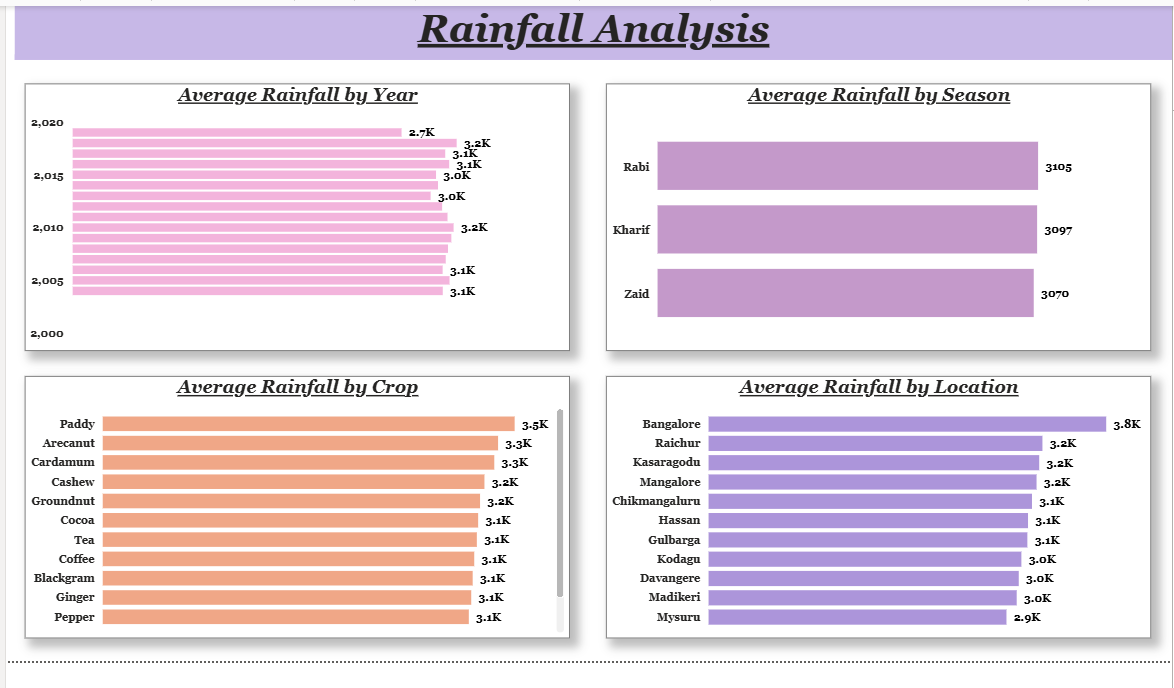

This screenshot's page, from the dashboard's own definition file:
{"tool":"powerbi","page":{"name":"Rainfall Analysis","canvas":[1280,720],"ordinal":0},"visuals":[{"type":"shape","title":"Rainfall Analysis","box":[9.6,0,1270.7,59],"z":0},{"type":"barChart","title":"Average Rainfall by Year","fields":{"Y":["Avg(AGRICULTURE.RAINFALL)"],"Category":["AGRICULTURE.YEAR"]},"box":[20.6,85.1,598.3,293.7],"z":1000},{"type":"barChart","title":"Average Rainfall by Season","fields":{"Y":["Avg(AGRICULTURE.RAINFALL)"],"Category":["AGRICULTURE.SEASON"]},"box":[658.7,85.1,598.3,293.7],"z":2000},{"type":"barChart","title":"Average Rainfall by Crop","fields":{"Y":["Avg(AGRICULTURE.RAINFALL)"],"Category":["AGRICULTURE.CROPS"]},"box":[20.6,406.2,598.3,288.2],"z":3000},{"type":"barChart","title":"Average Rainfall by Location","fields":{"Y":["Avg(AGRICULTURE.RAINFALL)"],"Category":["AGRICULTURE.LOCATION"]},"box":[658.7,406.2,598.3,288.2],"z":4000}]}

Visuals, with their boxes on the page's 1280x720 design canvas (x1, y1, x2, y2). These are canvas units, not pixel positions in the 1174x688 screenshot, which may show the page scaled, cropped or inside an application window:
"Rainfall Analysis" shape: 10 0 1280 59
"Average Rainfall by Year" barChart: 21 85 619 379
"Average Rainfall by Season" barChart: 659 85 1257 379
"Average Rainfall by Crop" barChart: 21 406 619 694
"Average Rainfall by Location" barChart: 659 406 1257 694
